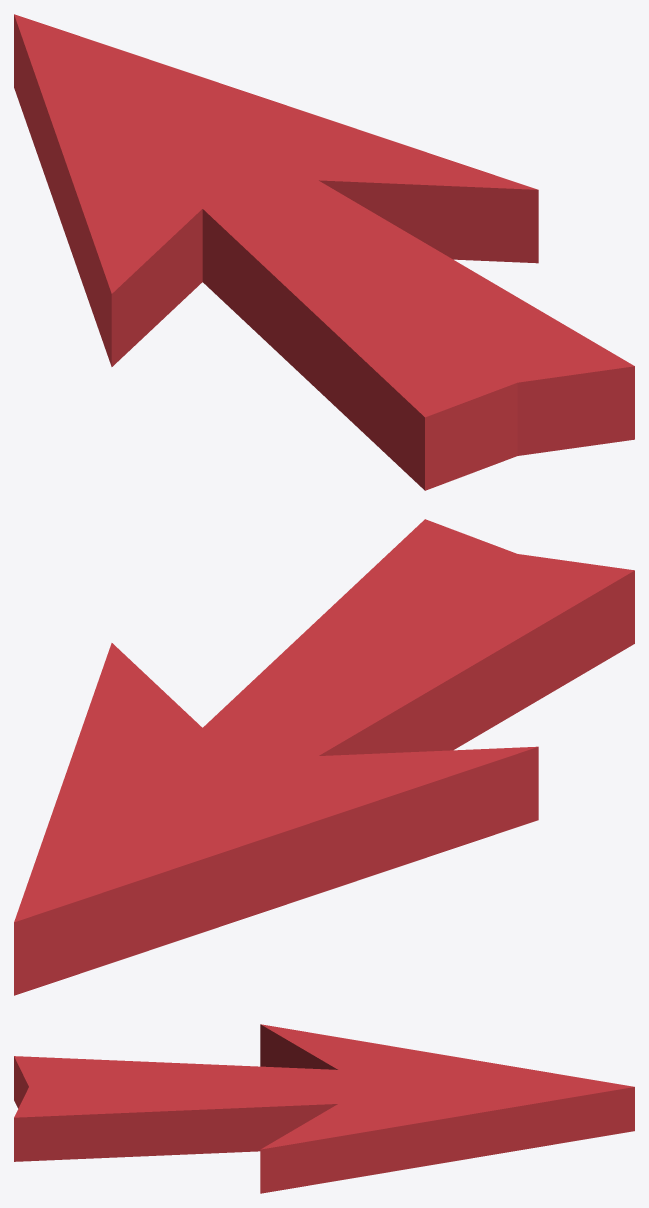
Rendered from Arrrow.glb.
The picture shows the model from 3 angles, top to bottom: view 1: azimuth 30°, elevation 25°; view 2: azimuth 150°, elevation 25°; view 3: azimuth 270°, elevation 25°; orthographic projection. The views are drawn at different scales.
Parts seen in each view (by area): view 1: Vert; view 2: Vert; view 3: Vert.
Part boxes in pixels (box(x1,y1,x2,y2)): Vert: box(14, 14, 634, 490); Vert: box(14, 519, 634, 995); Vert: box(14, 1024, 634, 1193).
Bounding box in the file's own units: 2.07 × 0.3392 × 4.32.
